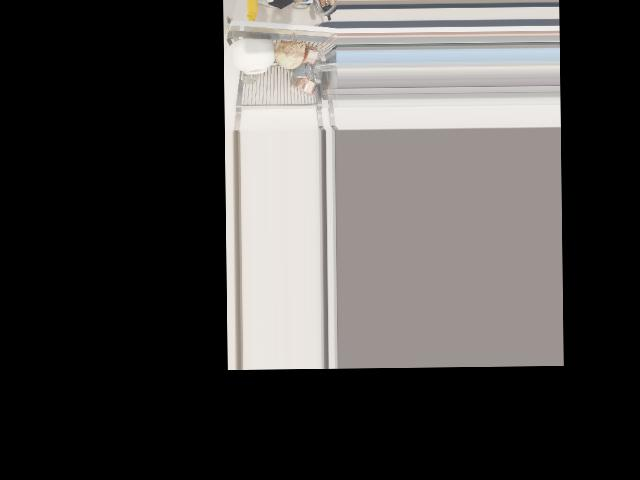onion: (275, 37, 303, 71)
